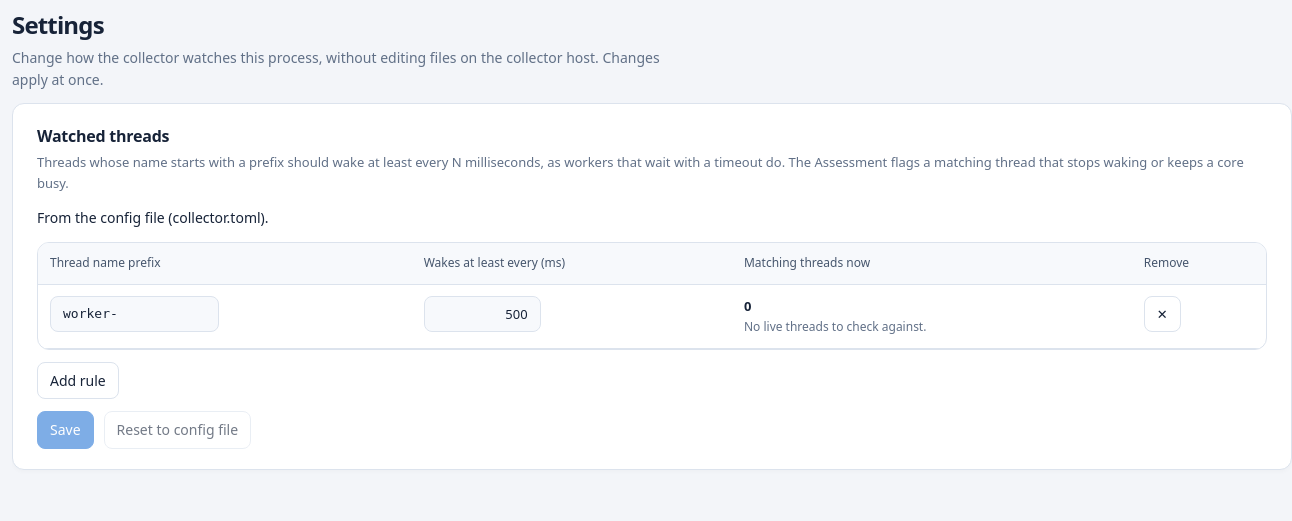
an applied error without its revision requires an explicit reload
Check: the button "Save" is shown, box [37,411,94,449]
Replace the text in the field named "Wakes at least every (ms), rule 1" with "250" at (482, 314), box [424,296,541,332]
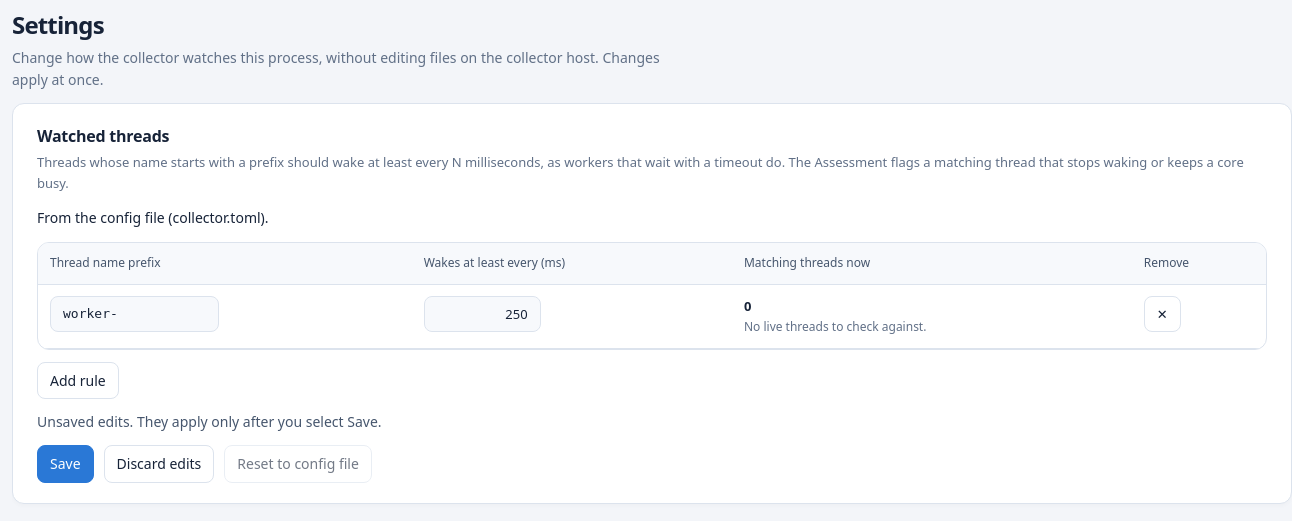
Click the button "Save" at (65, 464), box [37,445,94,483]
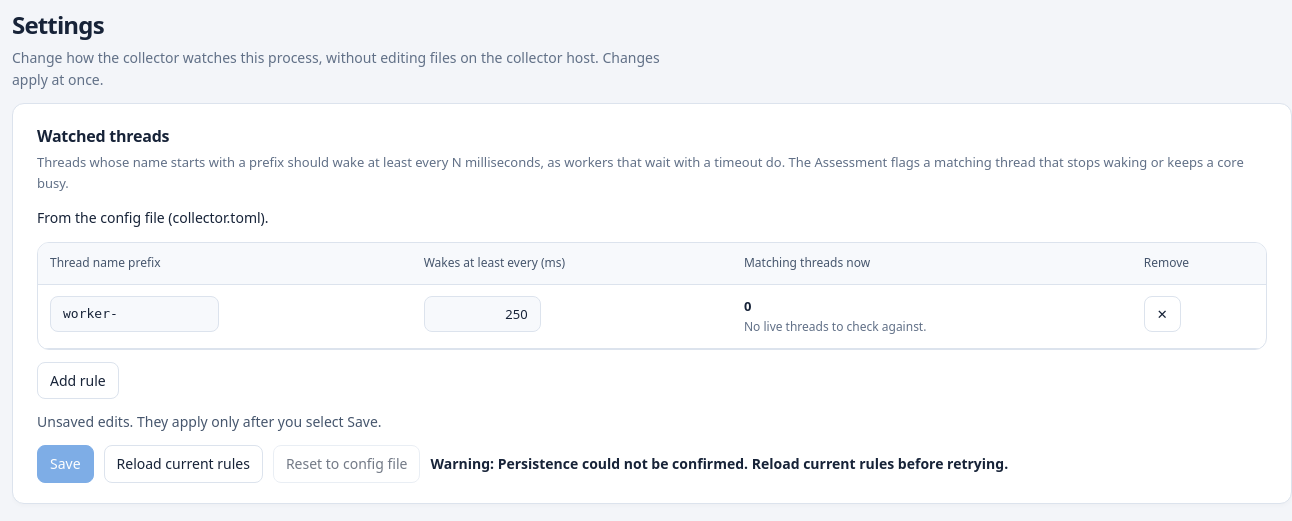
Check: the message with id "watch-status" shows "Reload current rules before retrying", box [430,454,1008,473]
Check: the button "Reload current rules" is shown, box [104,445,263,483]
